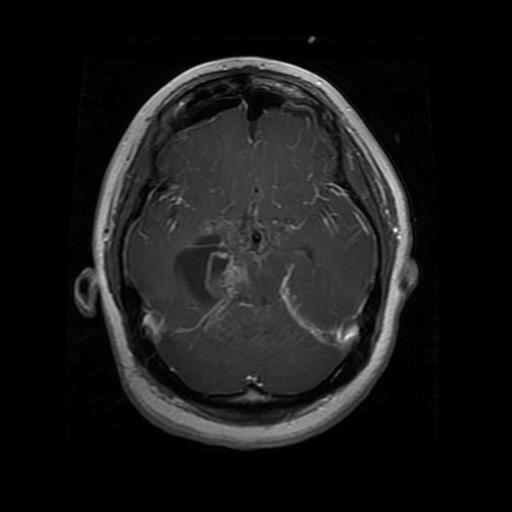Tumour-Glioma: (169, 230, 243, 311)
